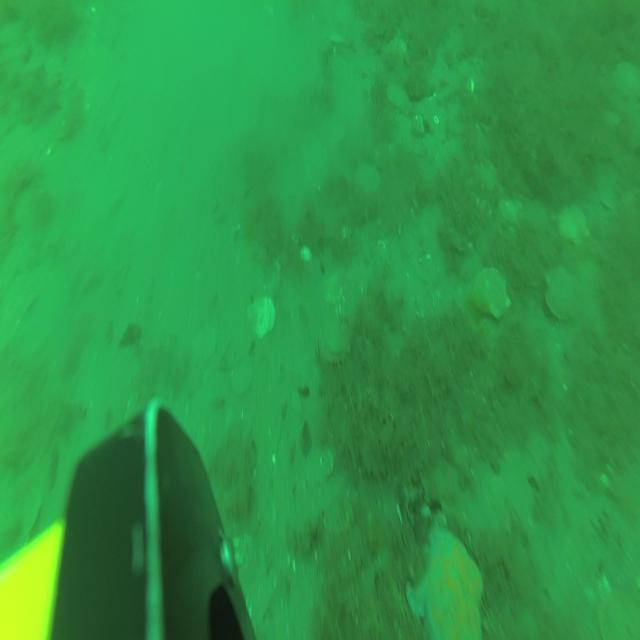scallop: (472, 261, 512, 322), (544, 264, 582, 322), (558, 199, 592, 246), (352, 155, 382, 198), (247, 296, 276, 339), (614, 57, 640, 103), (472, 154, 498, 197), (385, 81, 414, 117), (322, 271, 346, 304), (387, 32, 408, 63)
starfish: (404, 515, 486, 640)
